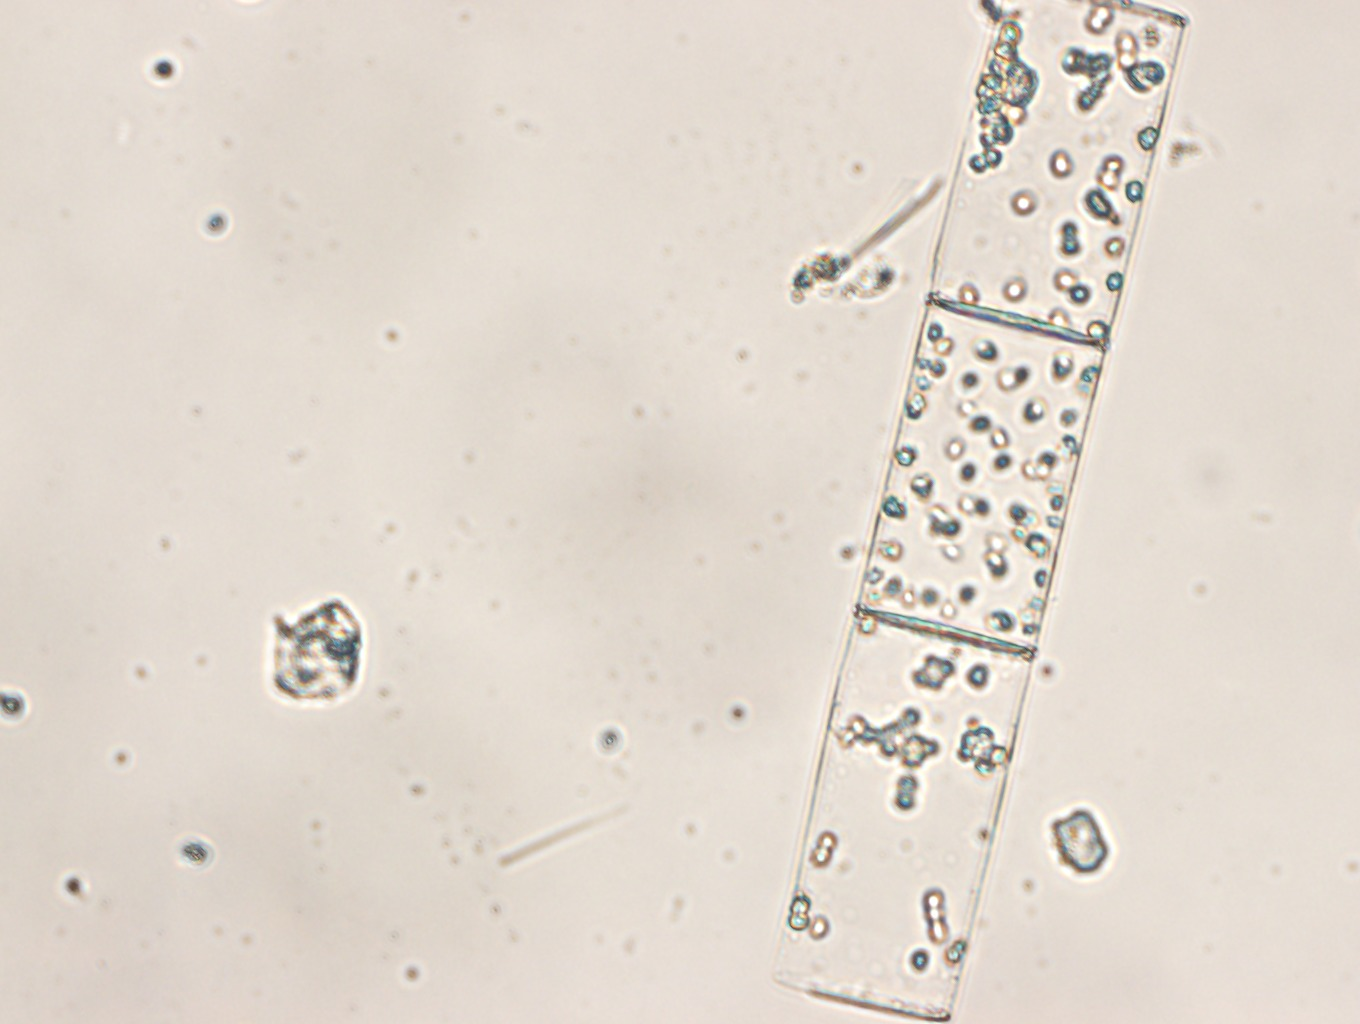guinardia flaccida: (767, 1, 1185, 1024)
